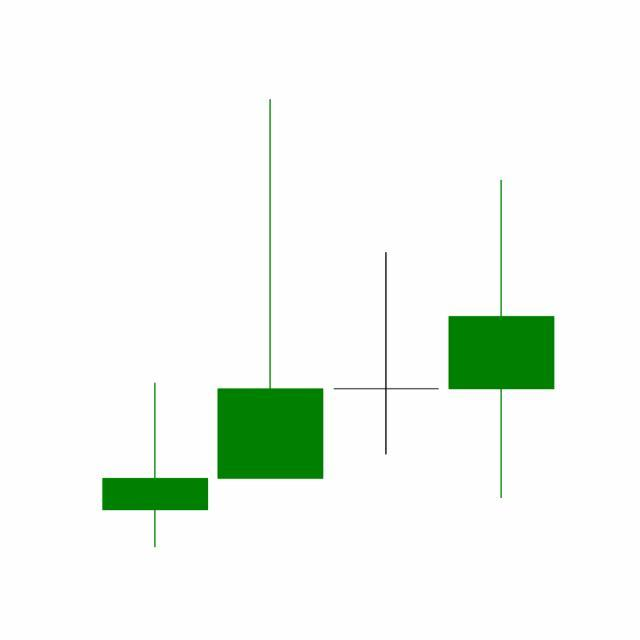Spinning Top: (329, 250, 445, 458)
